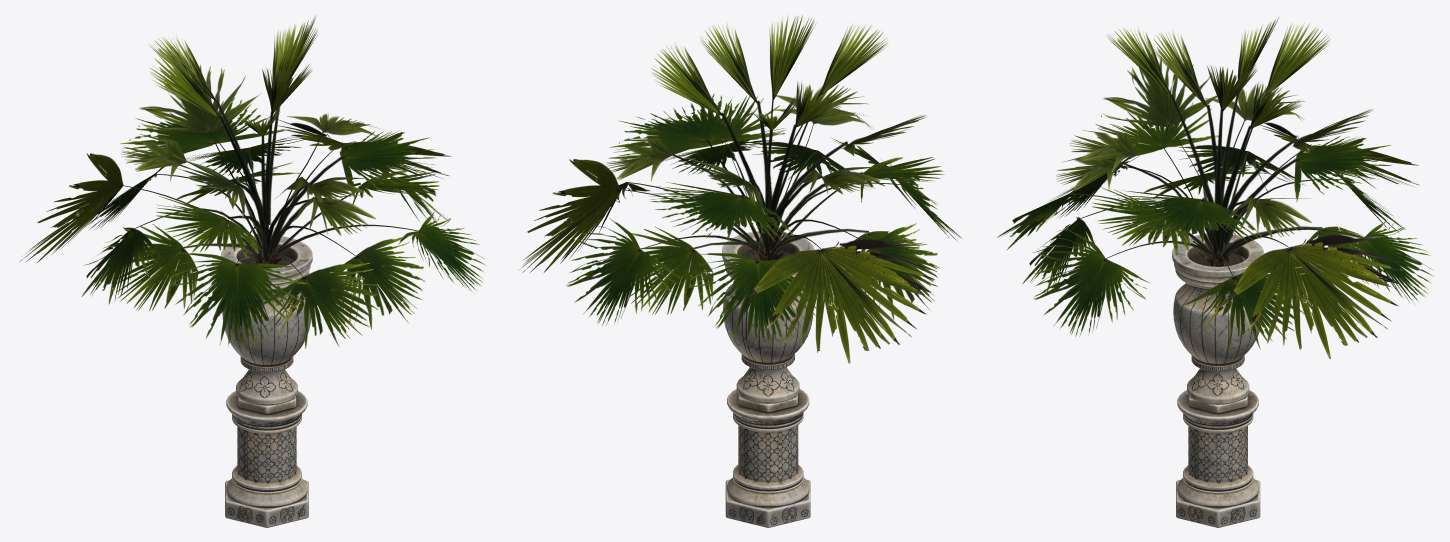
File: vase.glb
3 views of the same model, side by side, from view 1: azimuth 30°, elevation 25°; view 2: azimuth 150°, elevation 25°; view 3: azimuth 270°, elevation 25° (orthographic).
Visible parts, largest first — view 1: 02_1_02_0, 02_02_0, vase; view 2: 02_1_02_0, 02_02_0, vase; view 3: 02_02_0, 02_1_02_0, vase.
Boxes of the visible parts, x1,y1,x2,y2 form: 02_1_02_0: (19,24,446,348); 02_02_0: (81,16,486,348); vase: (221,236,312,527); 02_1_02_0: (560,23,962,363); 02_02_0: (521,15,944,346); vase: (722,231,814,527); 02_02_0: (997,22,1405,358); 02_1_02_0: (1022,17,1433,349); vase: (1172,233,1264,527).
Size of the model in its own units: 1.6 by 1.79 by 1.53.
Materials: 2 (2 with a texture image).
